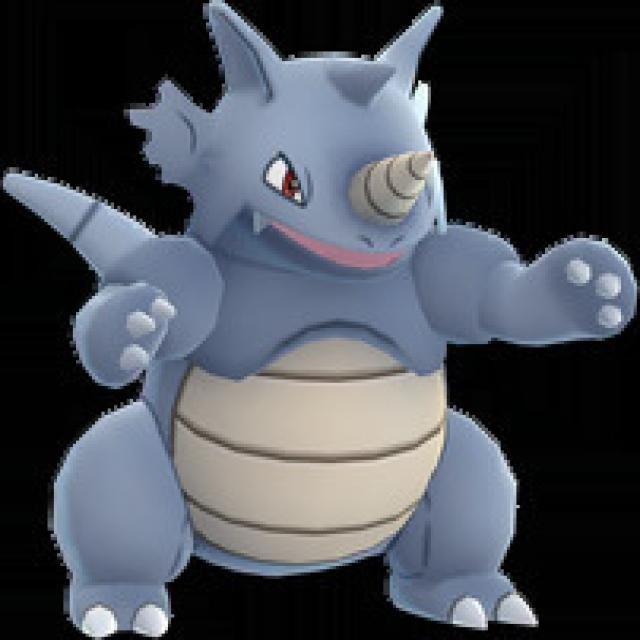Rhydon: (73, 4, 522, 640)
